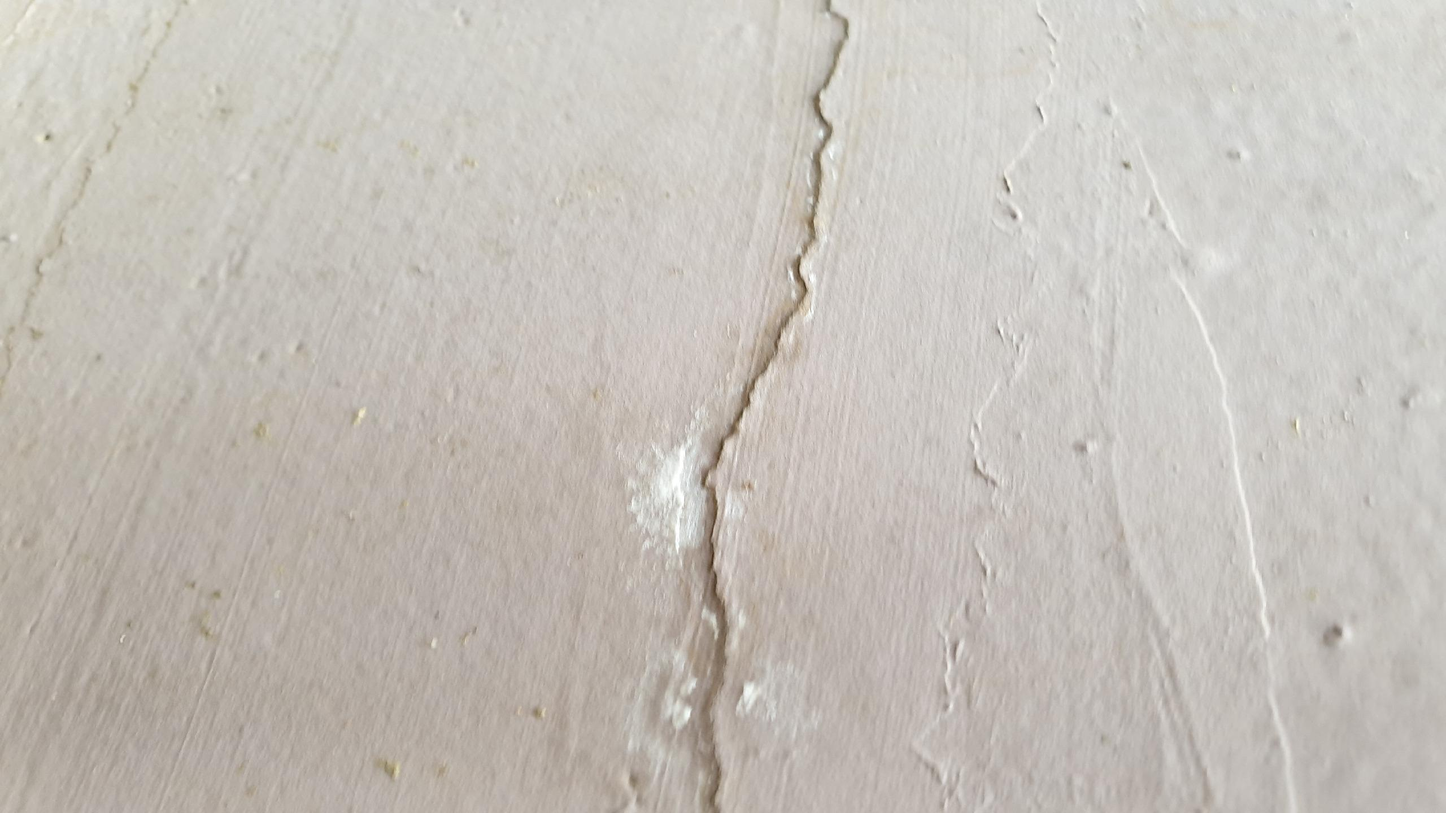crack: (703, 0, 849, 810)
